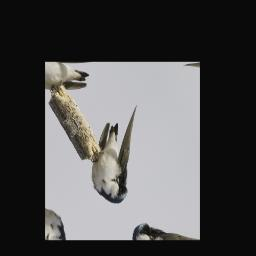Swallow: (72, 99, 170, 215)
